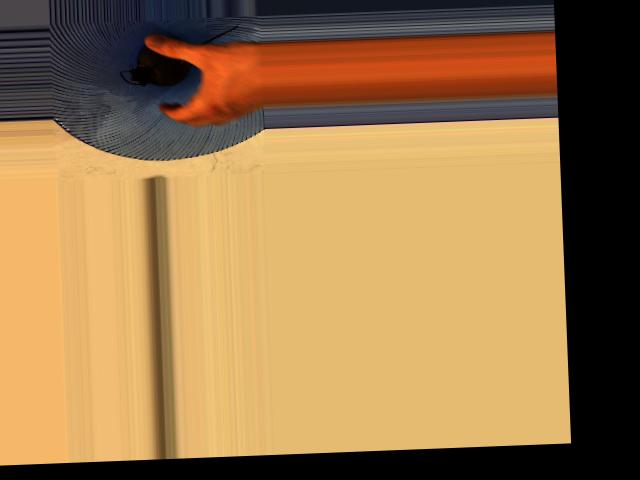beet: (118, 25, 239, 87)
